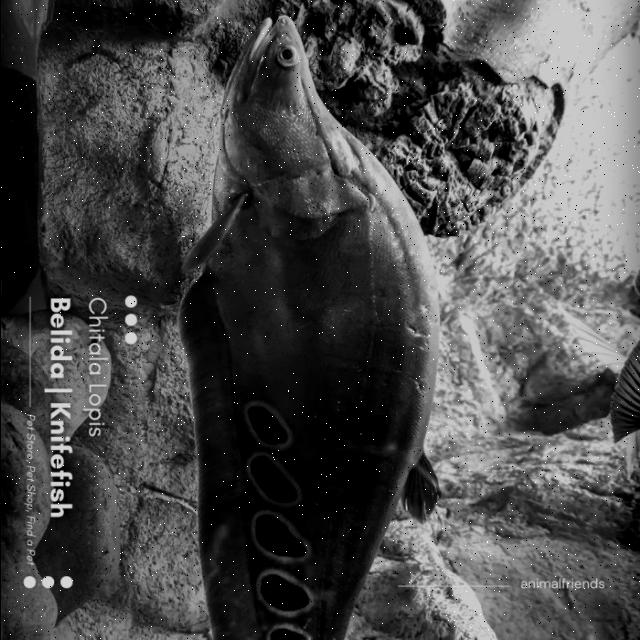Mulut: (212, 12, 310, 128)
Sirip Dada: (169, 172, 265, 286)
Sirip Punggung: (393, 440, 455, 542)
